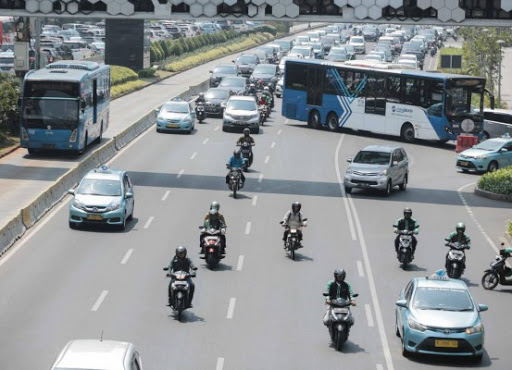car: (285, 60, 484, 148), (22, 59, 111, 155), (395, 270, 487, 362), (68, 165, 133, 235), (344, 144, 411, 195), (459, 131, 512, 177), (156, 95, 195, 135), (223, 96, 261, 133), (217, 75, 251, 104), (251, 63, 281, 92), (211, 64, 240, 93), (205, 88, 230, 118), (236, 52, 258, 79), (306, 41, 323, 59), (349, 36, 365, 54), (363, 27, 379, 42)
motorbike: (324, 271, 357, 353), (164, 246, 195, 322), (390, 207, 421, 270), (201, 202, 228, 269), (446, 225, 472, 281), (485, 244, 512, 290), (284, 203, 305, 258), (228, 148, 249, 199), (237, 128, 256, 171), (194, 93, 205, 125), (259, 94, 268, 129)
